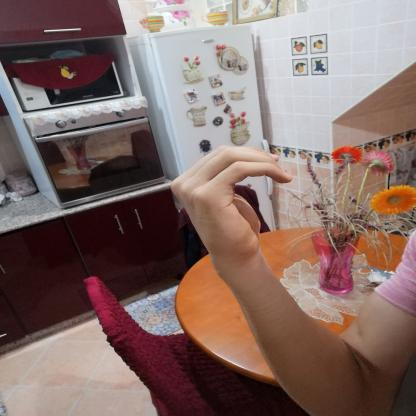HAA: (154, 128, 311, 269)
